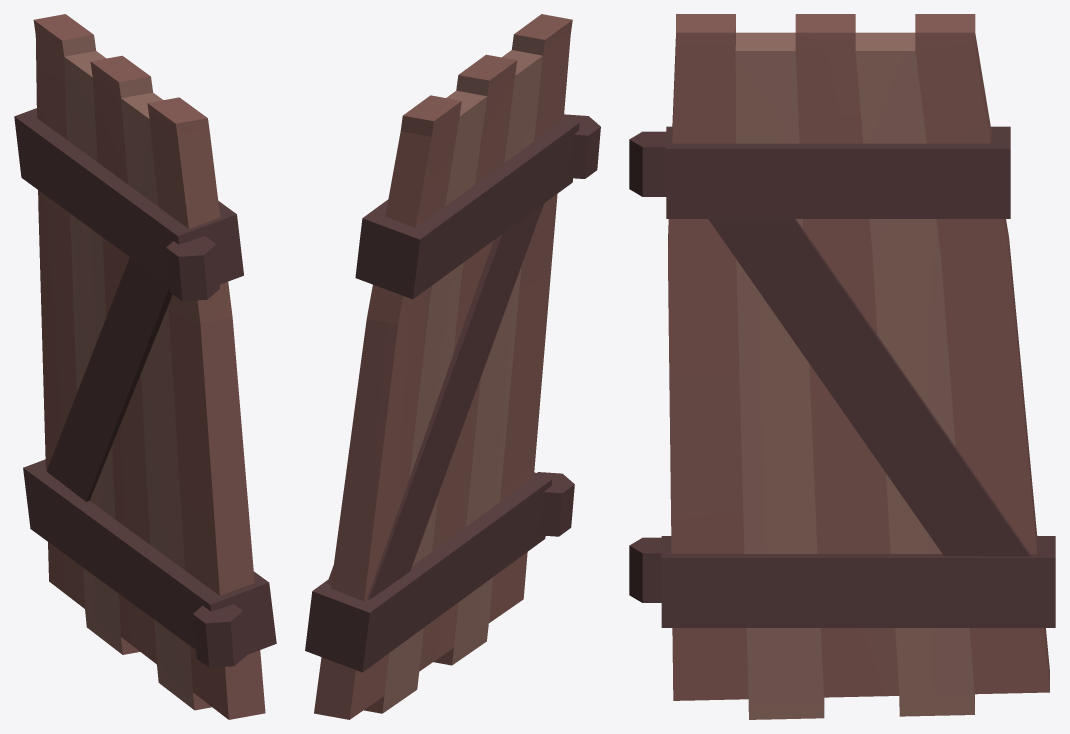
Rendered from AlchemyDoor.fbx.
The picture shows the model from 3 angles, left to right: view 1: azimuth 30°, elevation 25°; view 2: azimuth 150°, elevation 25°; view 3: azimuth 270°, elevation 25°; orthographic projection. The views are drawn at different scales.
Parts seen in each view (by area): view 1: Door_008; view 2: Door_008; view 3: Door_008.
Boxes of the visible parts, <box> form: Door_008: <box>14,14,276,719</box>; Door_008: <box>305,14,600,719</box>; Door_008: <box>629,14,1055,719</box>.
Bounding box in the file's own units: 74.32 × 416 × 244.
